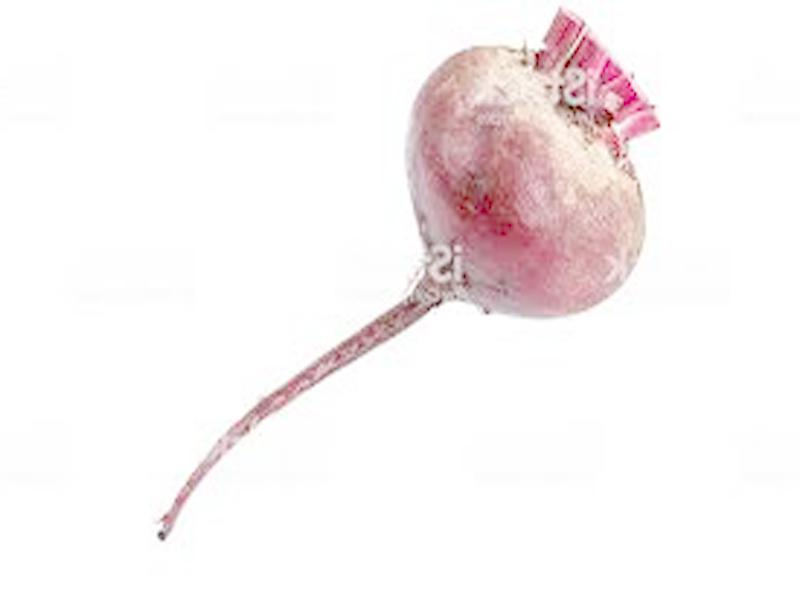Beet: (156, 7, 656, 538)
